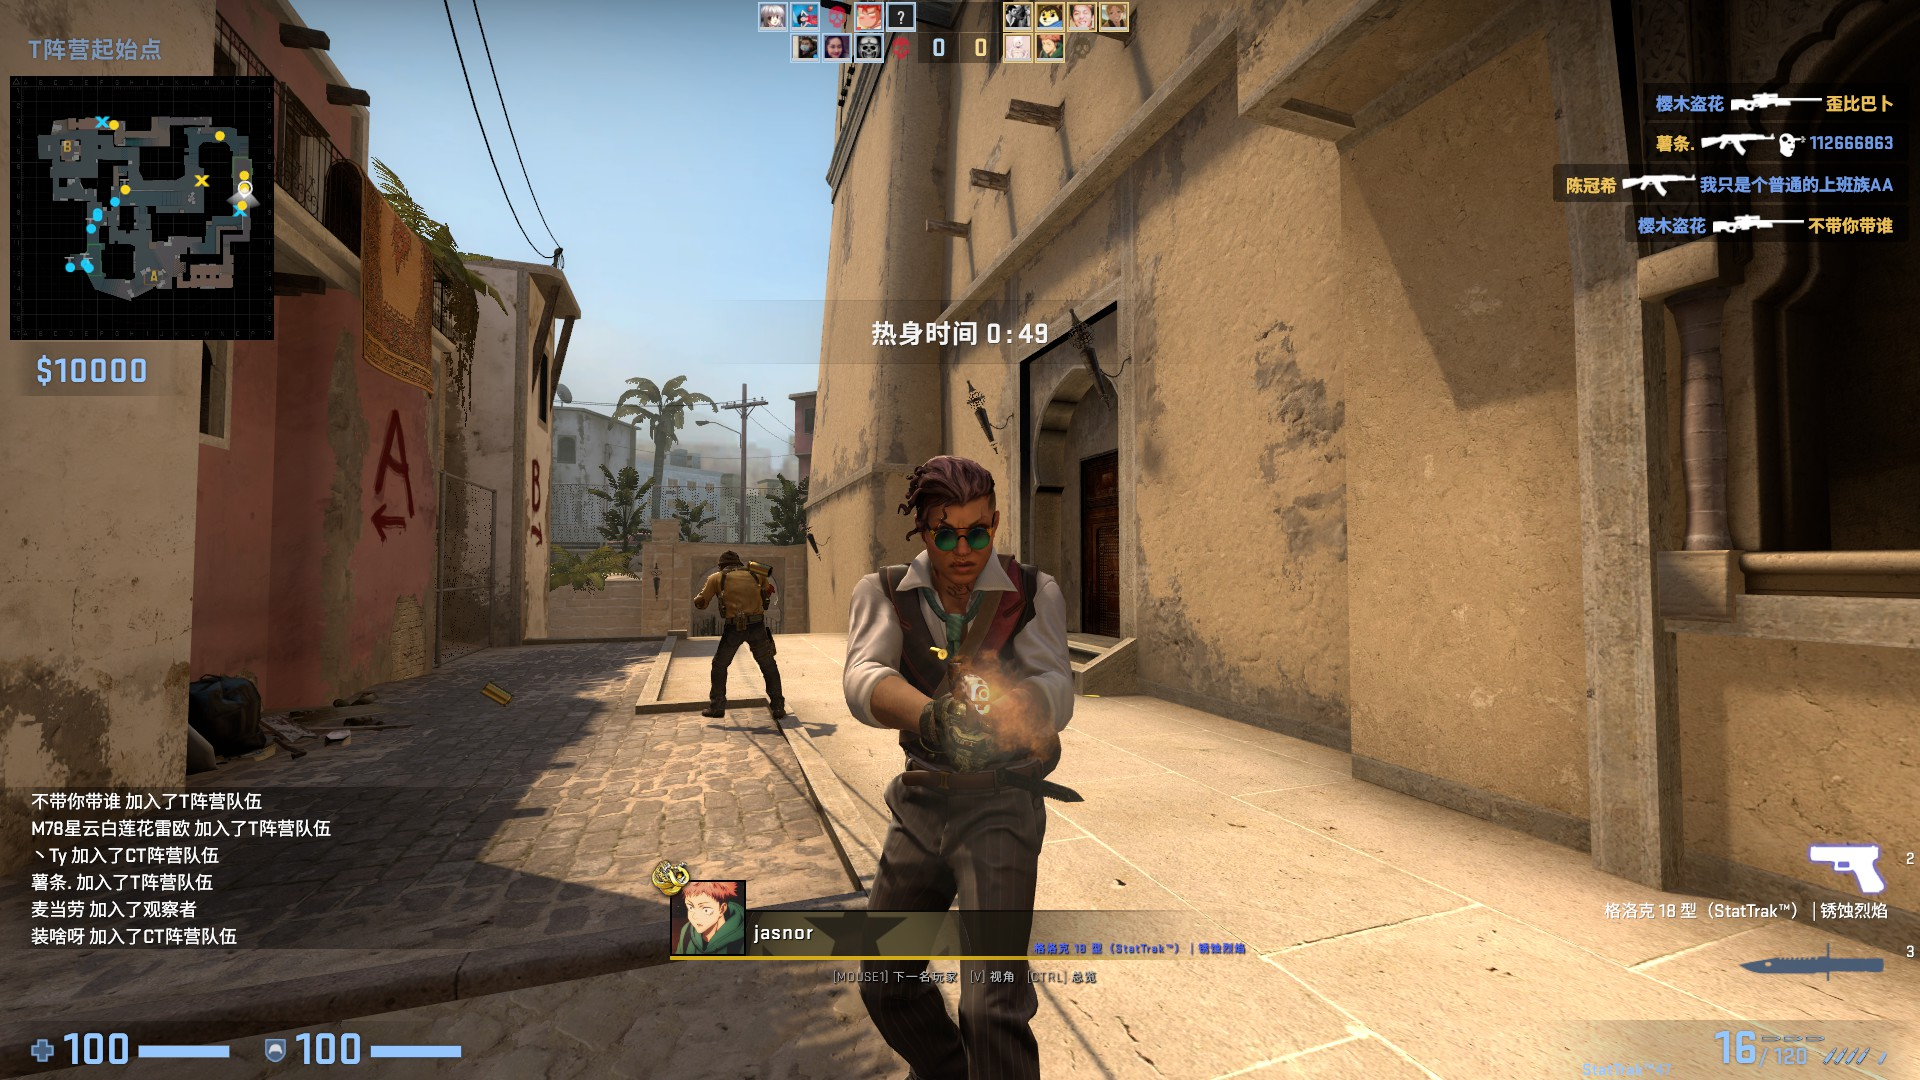head: (905, 449, 994, 580), (718, 548, 744, 570)
